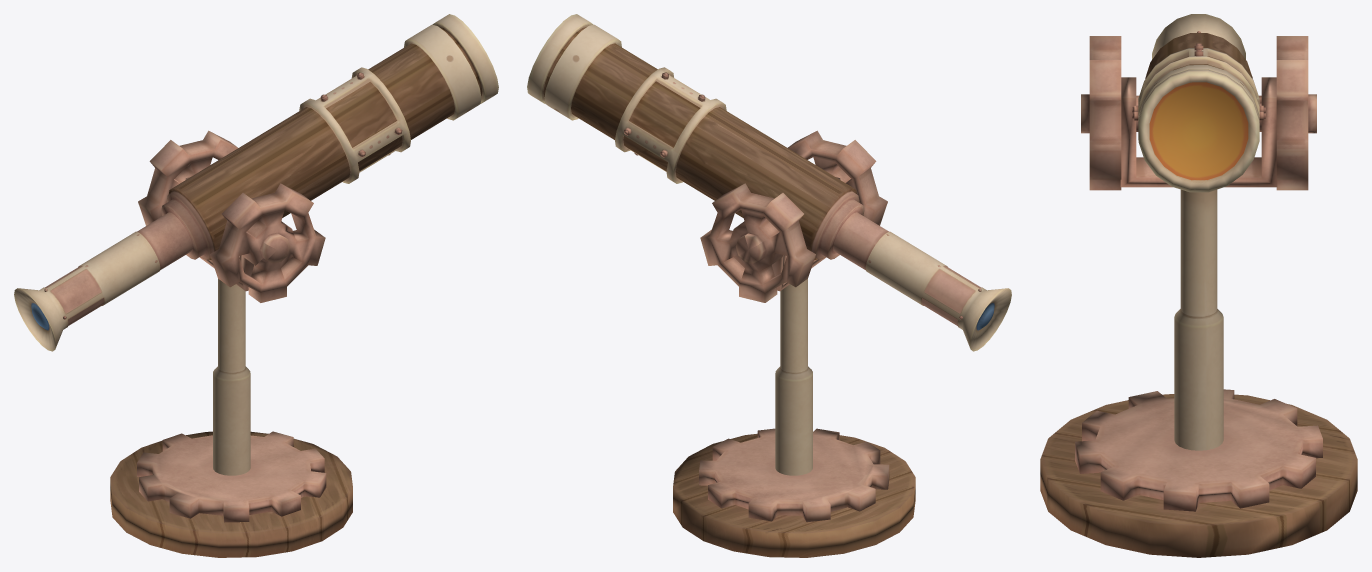
File: Telescope_LOD_0.fbx
3 renders of one model, left to right at view 1: azimuth 30°, elevation 25°; view 2: azimuth 150°, elevation 25°; view 3: azimuth 270°, elevation 25°, orthographic. The views are drawn at different scales.
Parts seen in each view (by area): view 1: mainscope_low, base_low, base2_low, gearright_low, stand_low, gearleft_low; view 2: mainscope_low, base_low, base2_low, gearleft_low, stand_low, gearright_low; view 3: base_low, base2_low, mainscope_low, stand_low, gearleft_low, gearright_low, stand2_low.
Part boxes in pixels (left/top/right/bottom): mainscope_low: left=14, top=14, right=498, bottom=351; base_low: left=110, top=431, right=352, bottom=557; base2_low: left=137, top=431, right=326, bottom=522; gearright_low: left=210, top=183, right=325, bottom=302; stand_low: left=213, top=279, right=250, bottom=475; gearleft_low: left=138, top=130, right=237, bottom=225; mainscope_low: left=527, top=14, right=1011, bottom=351; base_low: left=673, top=431, right=915, bottom=557; base2_low: left=699, top=428, right=889, bottom=522; gearleft_low: left=700, top=183, right=815, bottom=302; stand_low: left=775, top=279, right=812, bottom=475; gearright_low: left=788, top=130, right=887, bottom=225; base_low: left=1040, top=394, right=1357, bottom=557; base2_low: left=1075, top=389, right=1322, bottom=511; mainscope_low: left=1138, top=14, right=1259, bottom=192; stand_low: left=1174, top=189, right=1223, bottom=450; gearleft_low: left=1259, top=36, right=1316, bottom=190; gearright_low: left=1081, top=36, right=1138, bottom=190; stand2_low: left=1120, top=77, right=1277, bottom=187.
Size of the model in its own units: 8.64 by 7.77 by 3.96.
Materials: 1 (1 with a texture image).
